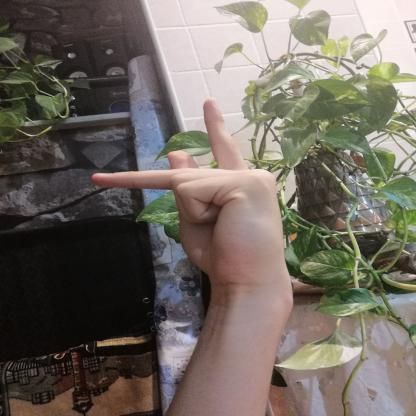DHAA: (78, 89, 302, 294)
